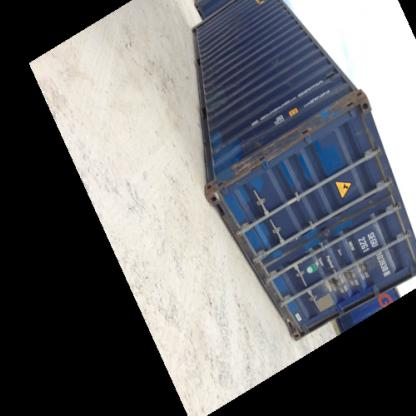Damage: (292, 88, 366, 138), (233, 130, 298, 172), (216, 77, 240, 113)
